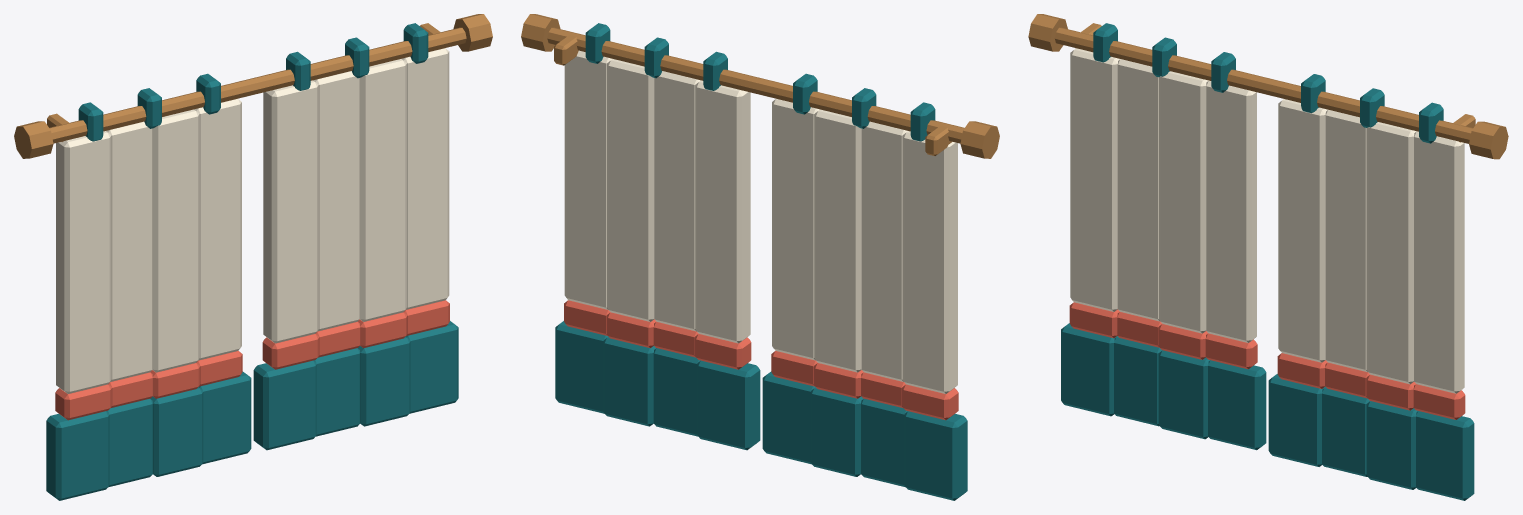
Rendered from window_curtains.glb.
3 renders of one model, left to right at view 1: azimuth 30°, elevation 25°; view 2: azimuth 150°, elevation 25°; view 3: azimuth 330°, elevation 25°, orthographic.
Visible parts, largest first — view 1: part_curtain_r, part_curtain_l, window_curtains; view 2: part_curtain_r, part_curtain_l, window_curtains; view 3: part_curtain_r, part_curtain_l, window_curtains.
Part boxes in pixels (<box>): part_curtain_r: <box>253,23,458,450</box>; part_curtain_l: <box>46,73,251,500</box>; window_curtains: <box>14,14,492,158</box>; part_curtain_r: <box>555,23,760,450</box>; part_curtain_l: <box>762,73,967,500</box>; window_curtains: <box>521,14,999,158</box>; part_curtain_r: <box>1268,74,1474,500</box>; part_curtain_l: <box>1061,23,1266,450</box>; window_curtains: <box>1028,14,1508,159</box>.
Size of the model in its own units: 1.49 by 1.18 by 0.14.
